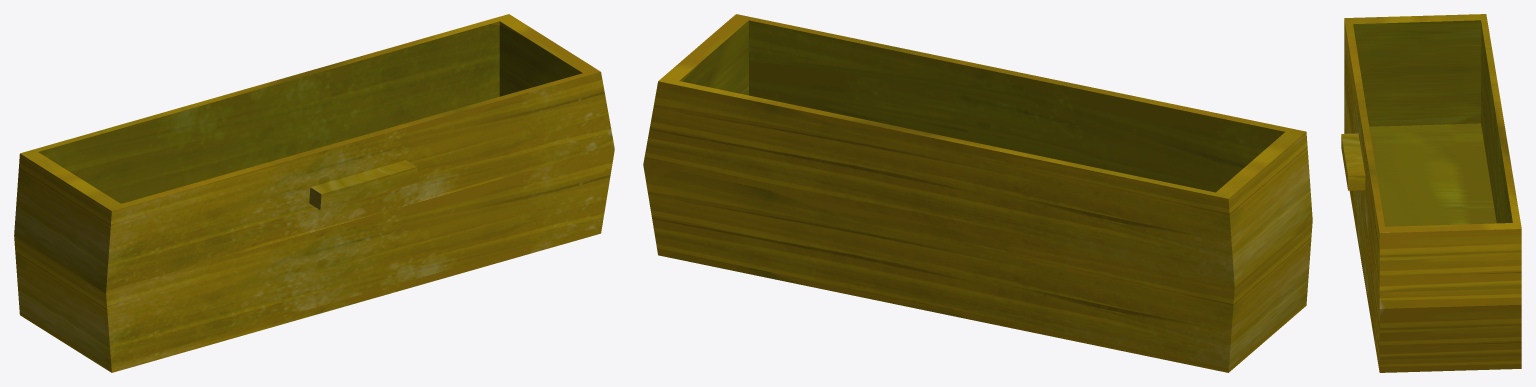
File: EscritorioL_cajon1.glb
3 views of the same model, side by side, from view 1: azimuth 30°, elevation 25°; view 2: azimuth 150°, elevation 25°; view 3: azimuth 270°, elevation 25° (orthographic). The views are drawn at different scales.
Visible parts, largest first — view 1: E_escritorioL_cajon1; view 2: E_escritorioL_cajon1; view 3: E_escritorioL_cajon1.
Boxes of the visible parts, <box> form: E_escritorioL_cajon1: <box>14,14,614,372</box>; E_escritorioL_cajon1: <box>643,14,1312,372</box>; E_escritorioL_cajon1: <box>1341,14,1521,372</box>.
Bounding box in the file's own units: 4.19 × 1.2 × 1.41.
Materials: 1 (1 with a texture image).
